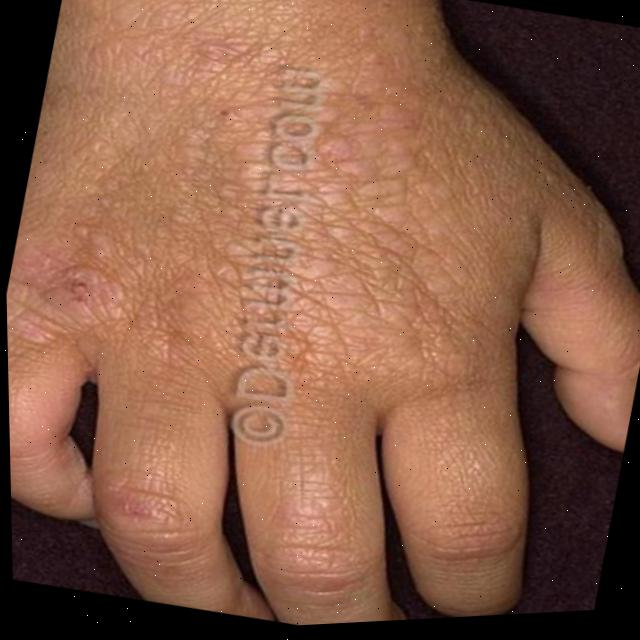Eczema: (1, 10, 556, 467)
